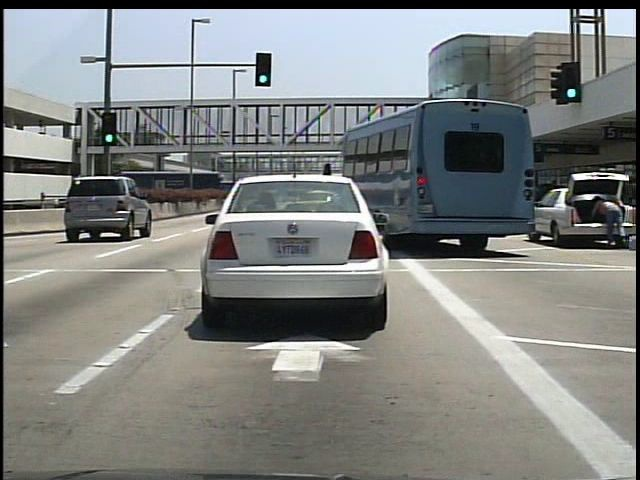person: (588, 189, 626, 253)
